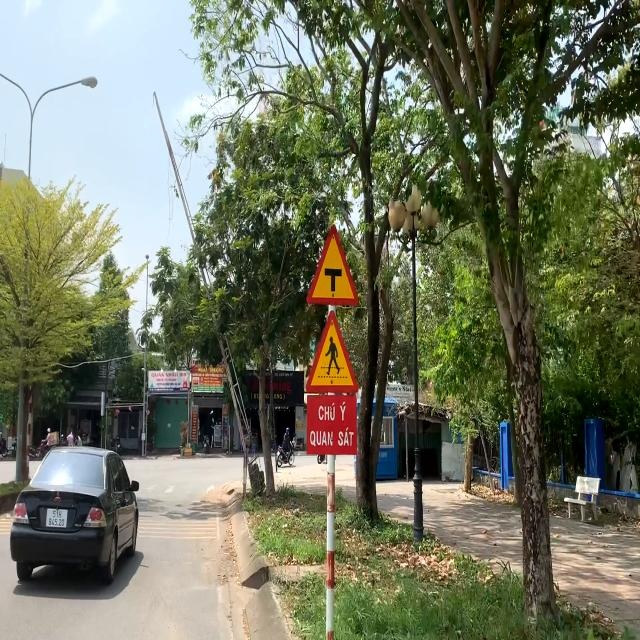bien_nguy_hiem: (302, 309, 360, 395), (305, 222, 359, 308)
